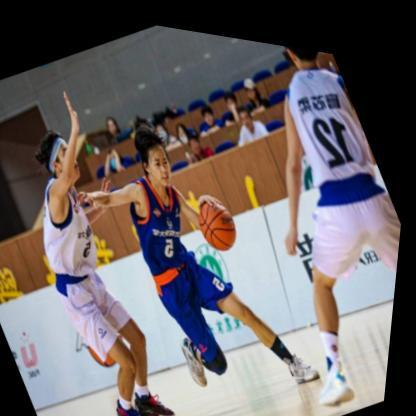basketball: (192, 184, 251, 251)
